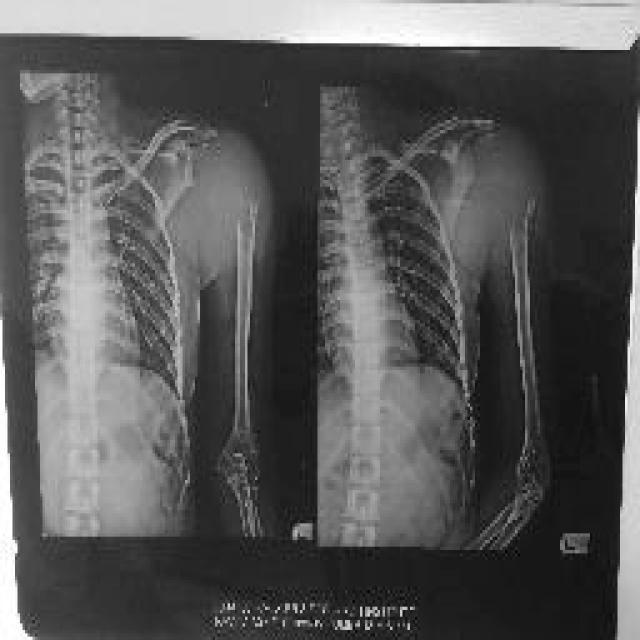bone-cancer: (165, 132, 270, 286), (442, 128, 542, 278)
